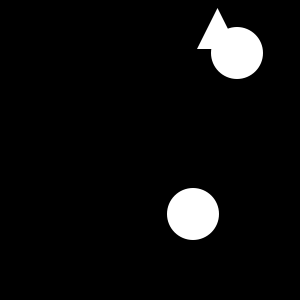rectangle: (167, 188, 219, 240), (211, 27, 263, 79)
triangle: (197, 8, 238, 49)
